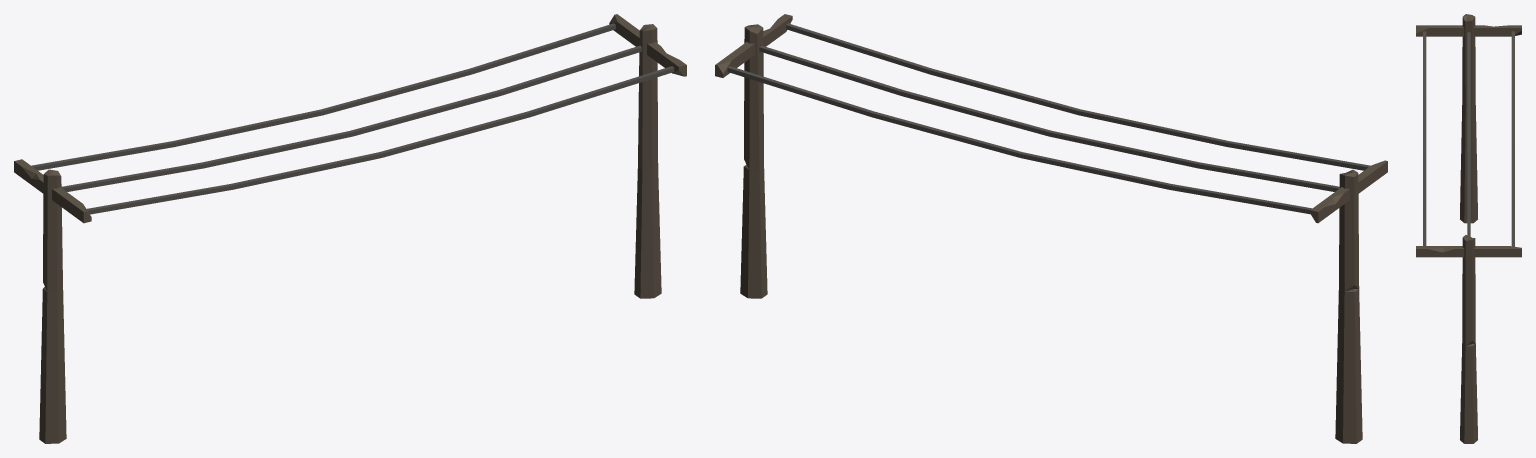
The model's file is SM_Prop_WashingLine_03.fbx.
3 views of the same model, side by side, from view 1: azimuth 30°, elevation 25°; view 2: azimuth 150°, elevation 25°; view 3: azimuth 270°, elevation 25° (orthographic). The views are drawn at different scales.
Visible parts, largest first — view 1: SM_Prop_WashingLine_03; view 2: SM_Prop_WashingLine_03; view 3: SM_Prop_WashingLine_03.
Part boxes in pixels (x1,y1,x2,y2): SM_Prop_WashingLine_03: (14,14,686,443); SM_Prop_WashingLine_03: (715,14,1387,443); SM_Prop_WashingLine_03: (1416,14,1521,443).
Bounding box in the file's own units: 549 × 227 × 107.
